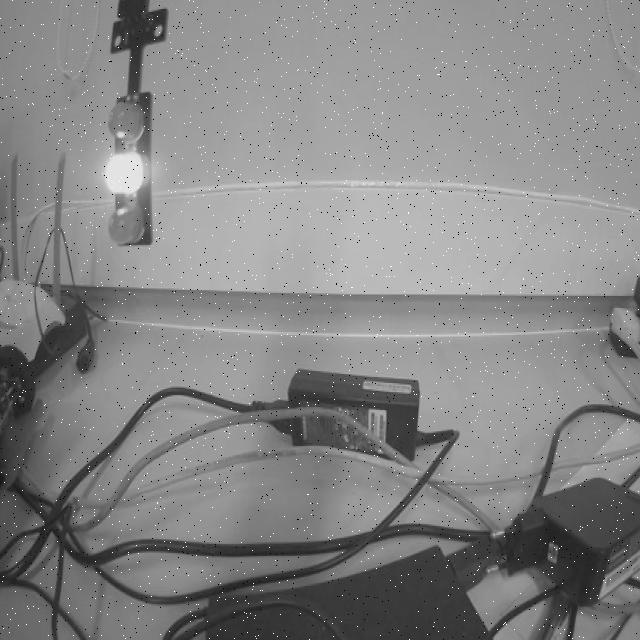Lampu Kuning: (104, 93, 152, 247)
